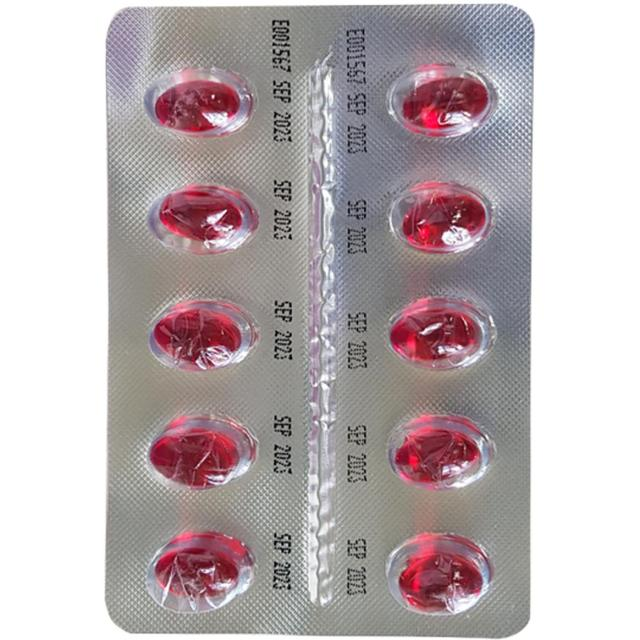blister: (106, 1, 537, 638)
